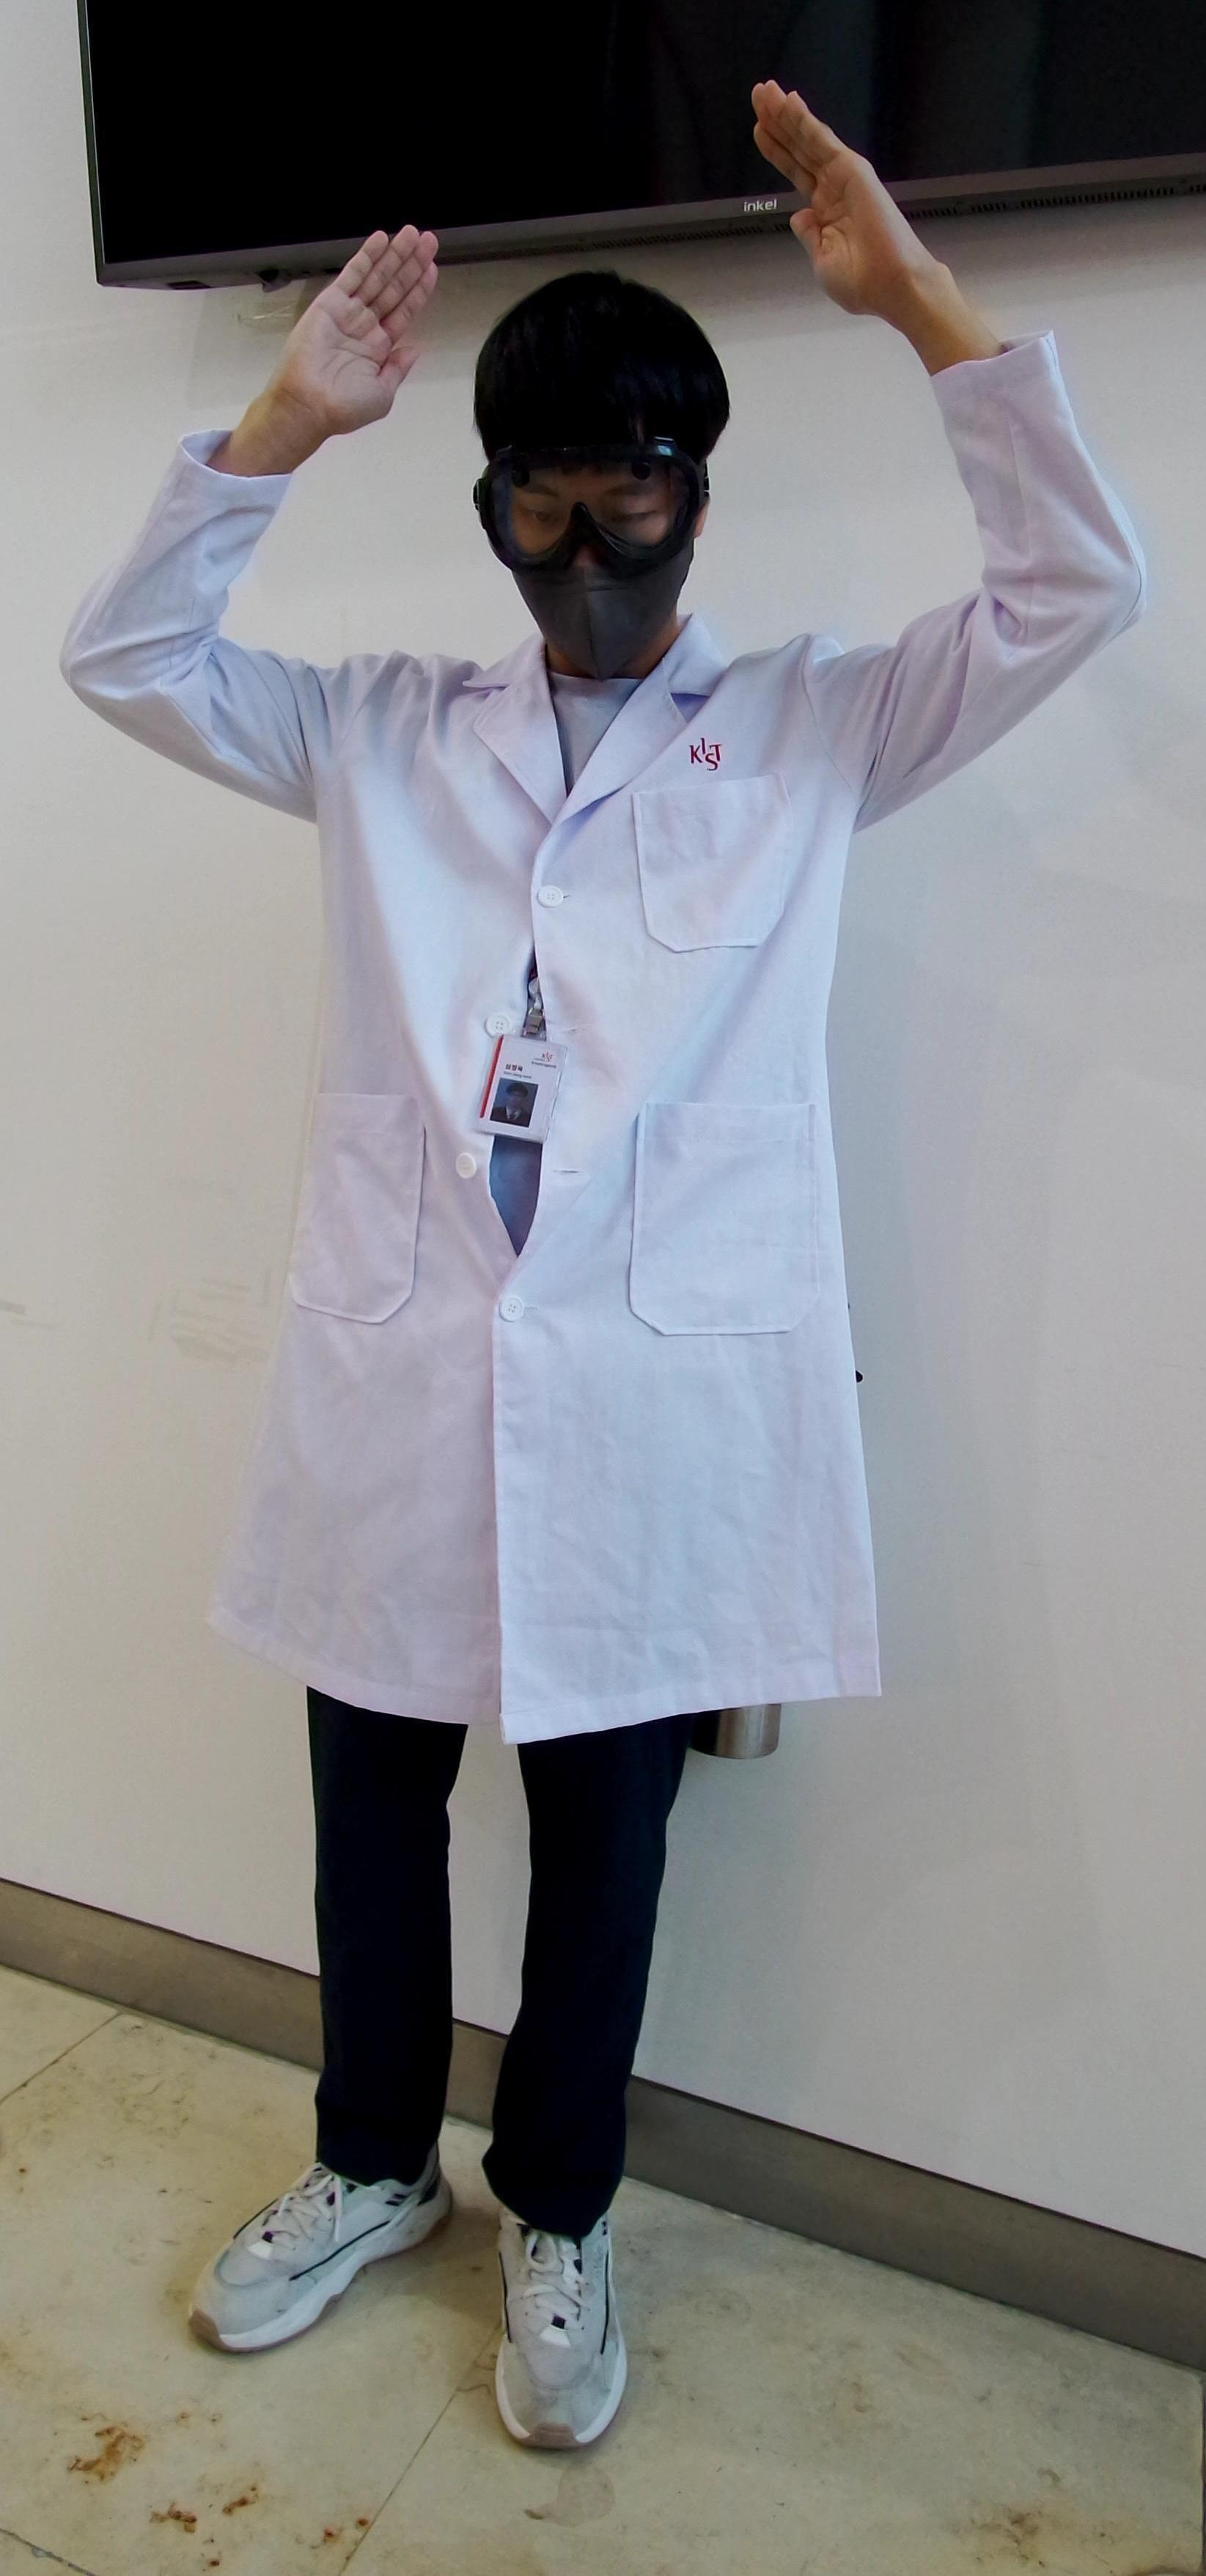lab_coat: (230, 695, 887, 1709)
